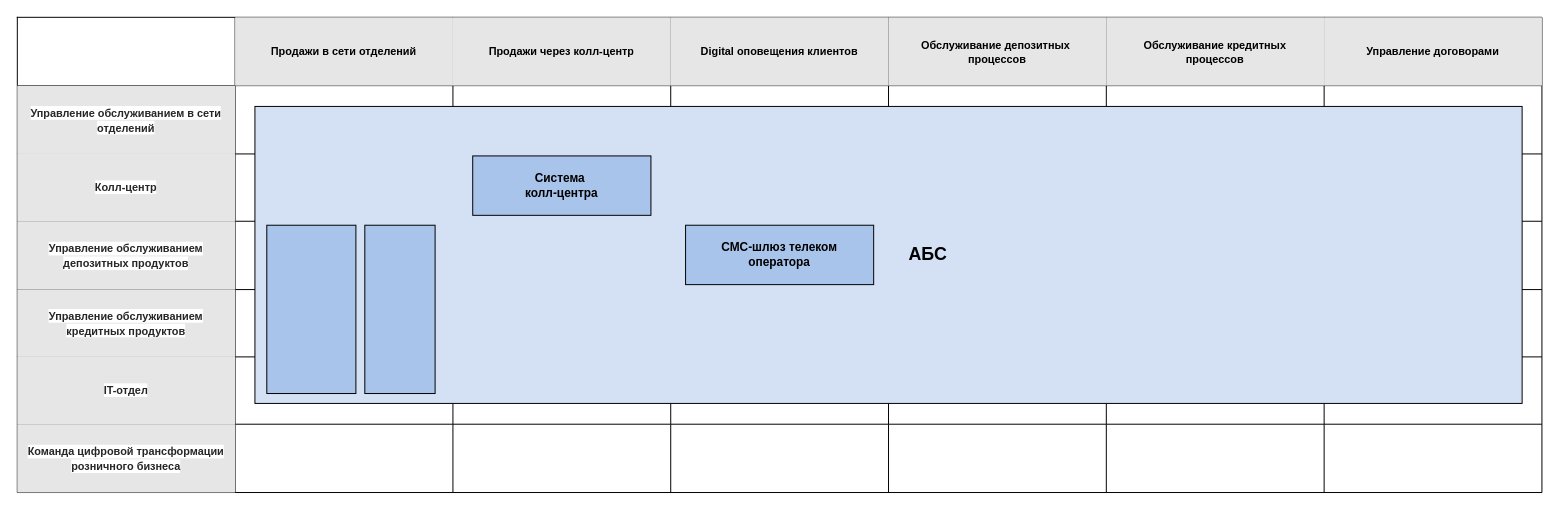
This 1559x510 diagram has some shape labels left out. Each missing label, with the centre of its shape:
Интернет- банк: the point at 311,309
Сайт: the point at 399,309
